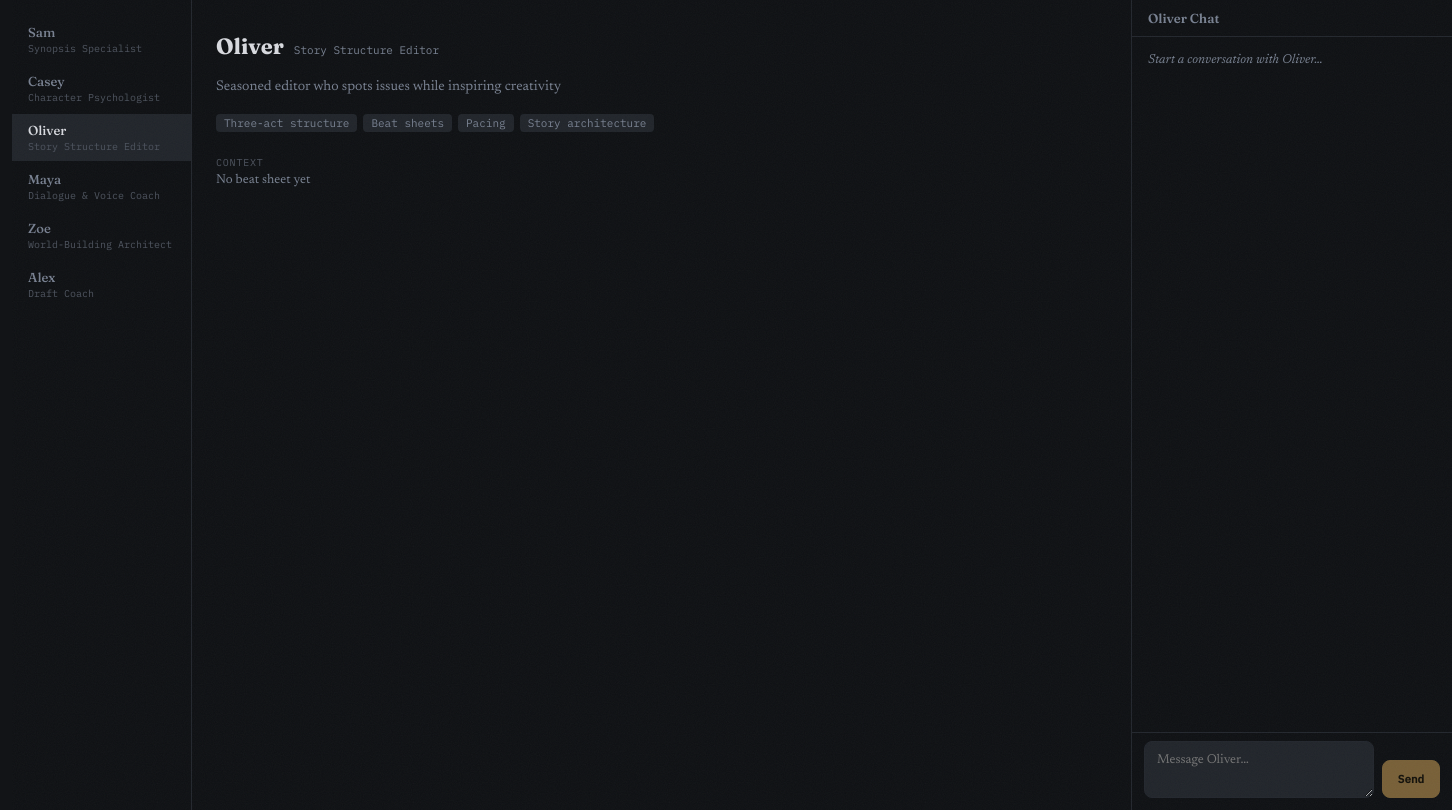
Test: WritersRoom › uses display fallback title in Alex project context
This screenshot has width=1452, height=810.
What coordinates should you click on to do the following:
click the text "Alex"
I would click on:
 (42, 277)
Its box is [28,269,55,285].
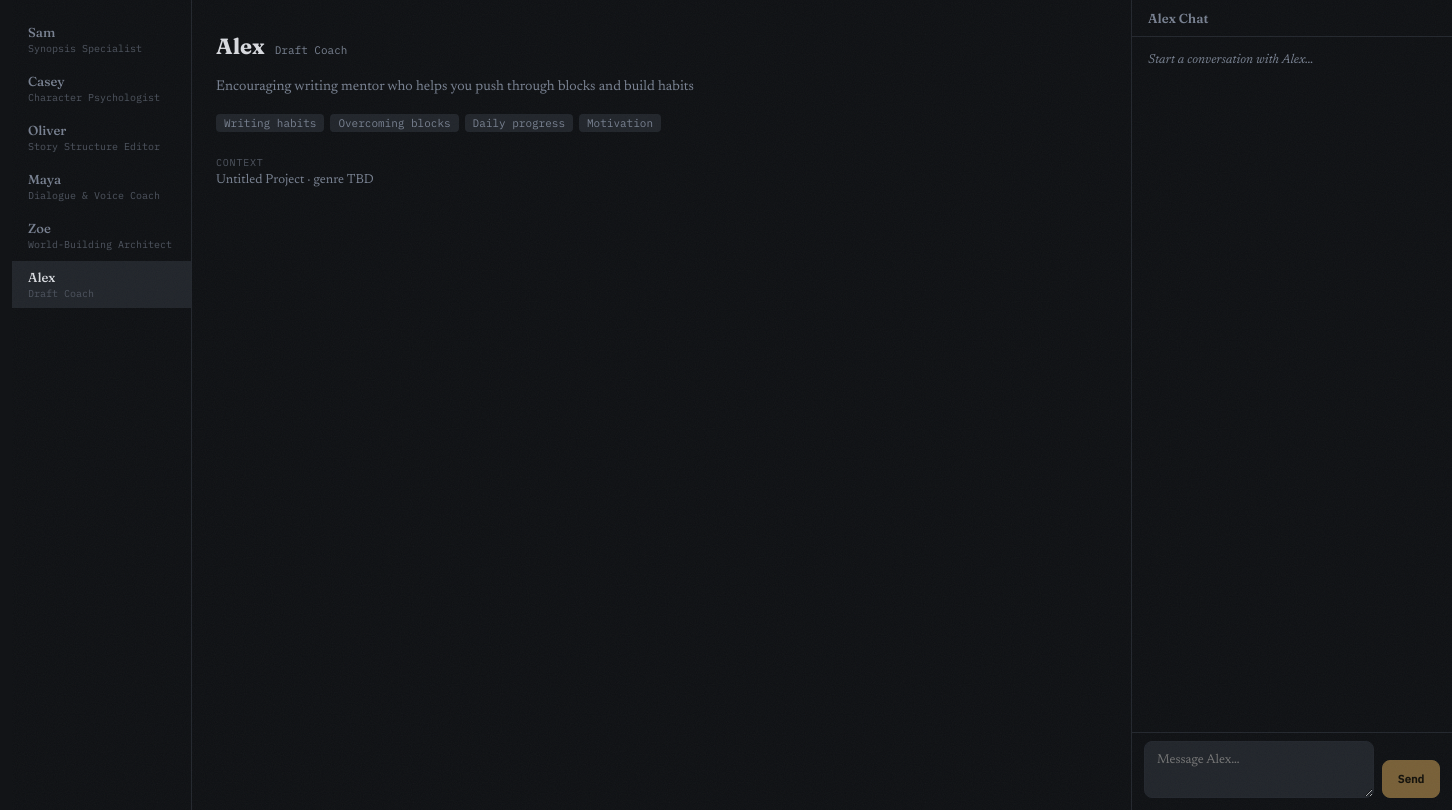
Expected: the element with test id "specialist-workspace" shows "Untitled Project · genre TBD", [216,173,374,186]
